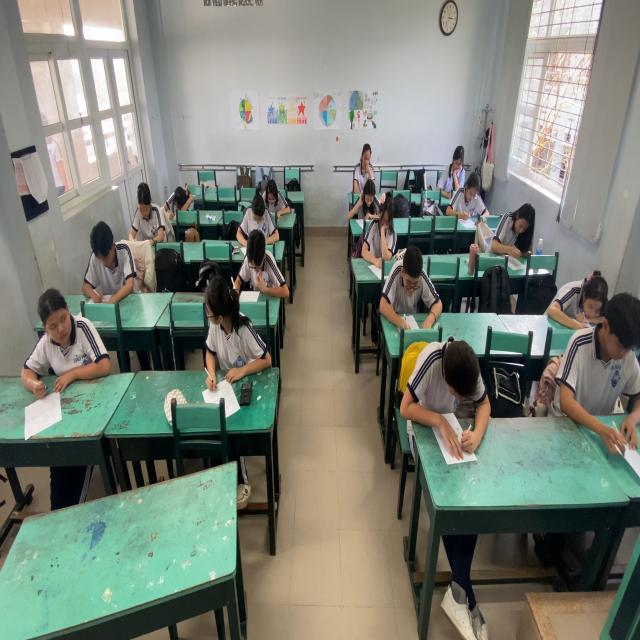cheating: (32, 276, 100, 389), (197, 278, 261, 376)
not_cheating: (570, 292, 638, 446), (417, 325, 490, 442), (380, 246, 442, 327), (84, 214, 133, 300), (238, 226, 282, 292), (498, 199, 540, 259), (560, 265, 604, 322), (130, 178, 162, 245), (259, 173, 293, 228), (451, 169, 486, 219), (367, 200, 396, 260), (240, 195, 276, 243), (348, 133, 376, 190), (440, 142, 466, 189), (166, 177, 190, 222), (356, 175, 378, 221)
